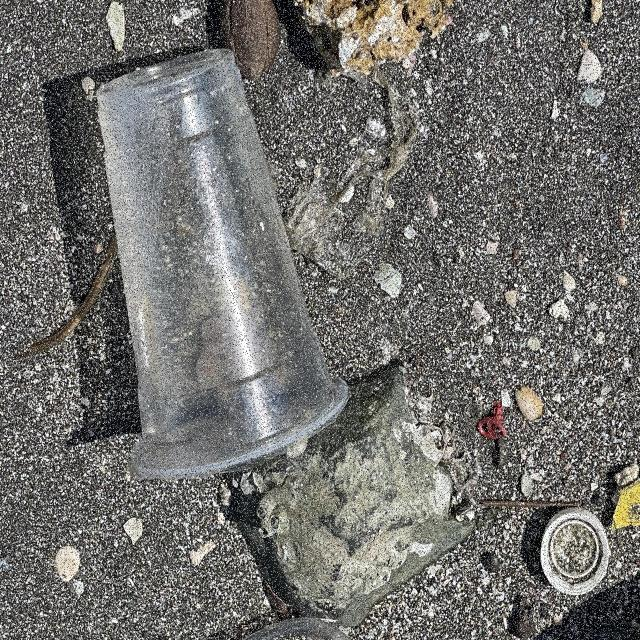plastic_waste: (96, 51, 351, 481), (541, 509, 609, 597)
